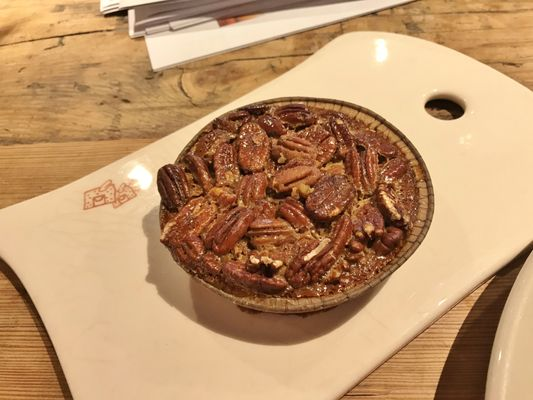curry: (1, 1, 526, 400)
